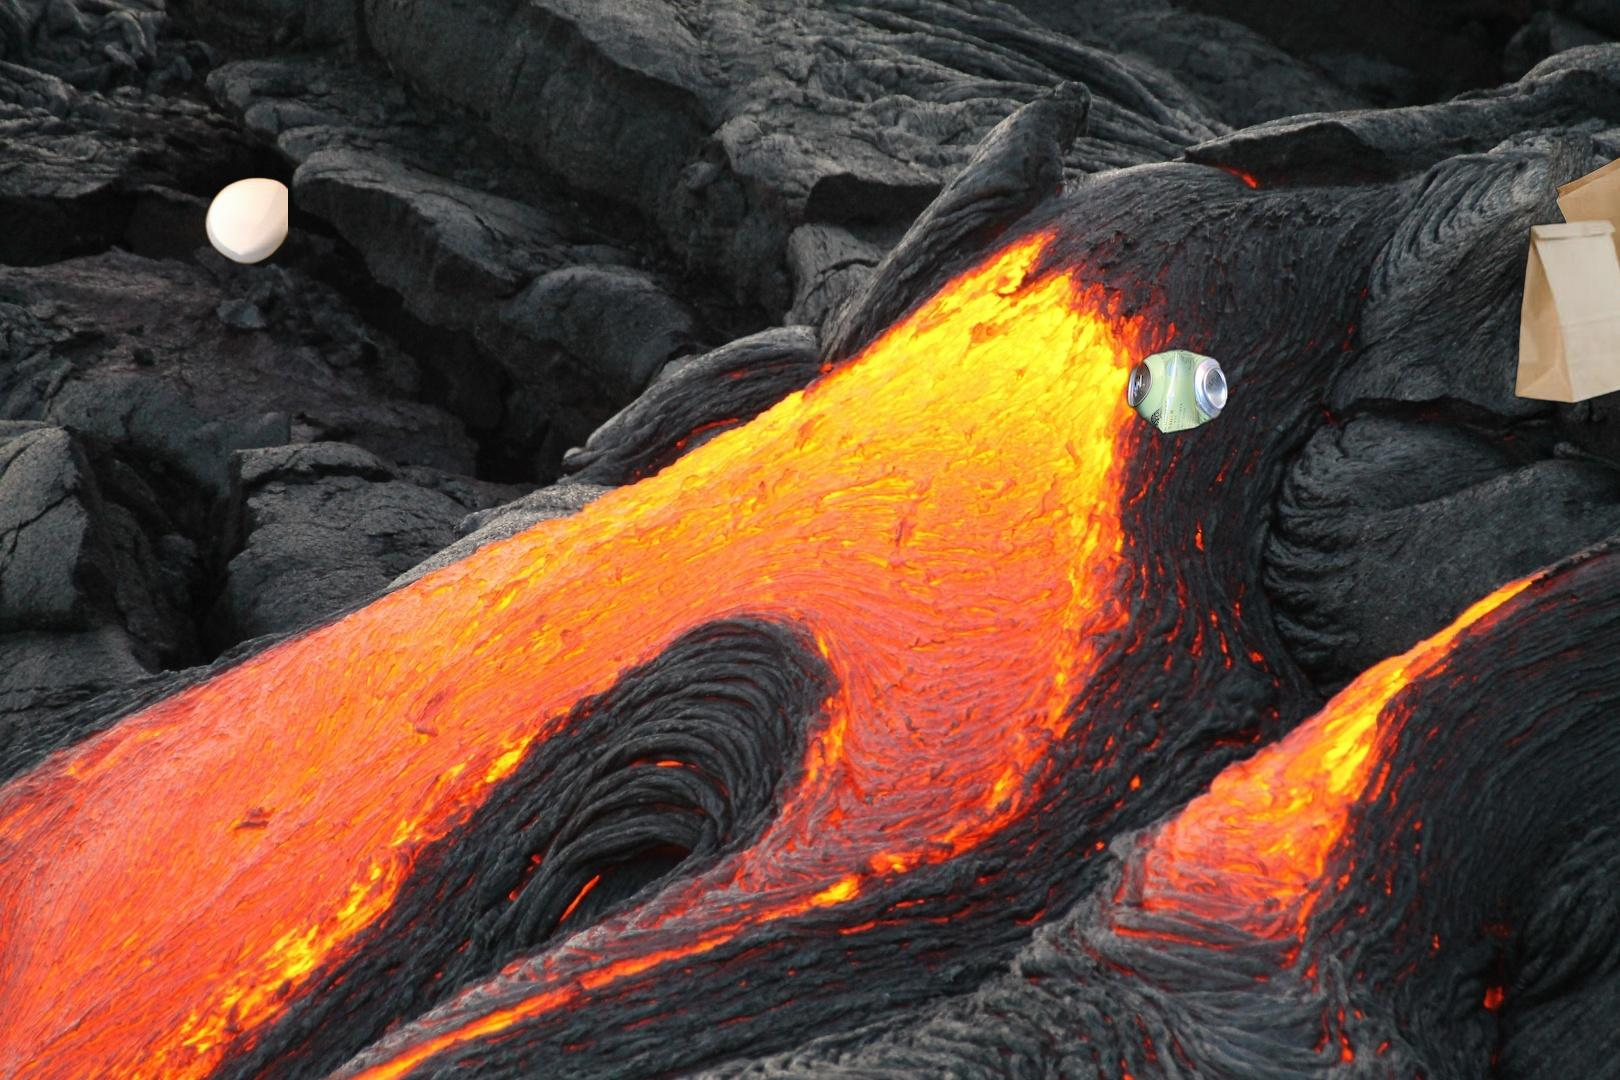metal-cans: (1122, 344, 1426, 764)
paper-bag: (1457, 143, 1620, 444)
trashbox-cardboard: (200, 174, 288, 268)
